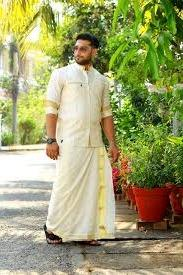Human: (37, 28, 130, 247)
